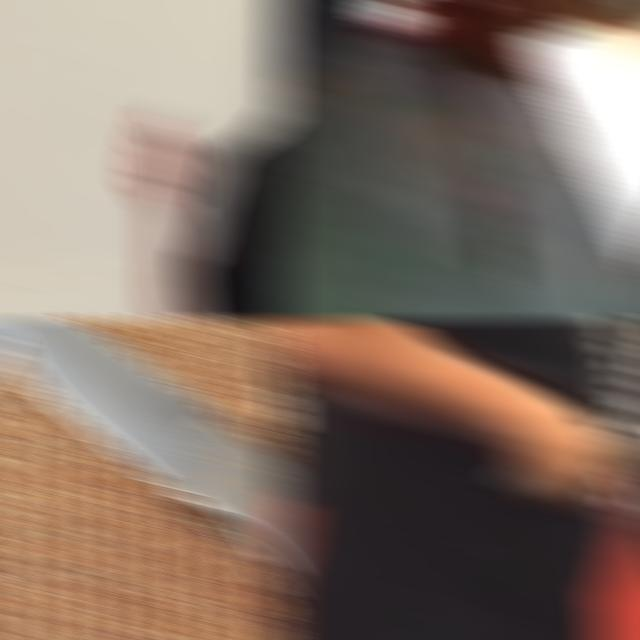Knife: (591, 409, 640, 465)
Knife_Handle: (324, 0, 538, 288), (127, 97, 212, 322), (506, 386, 640, 502)
